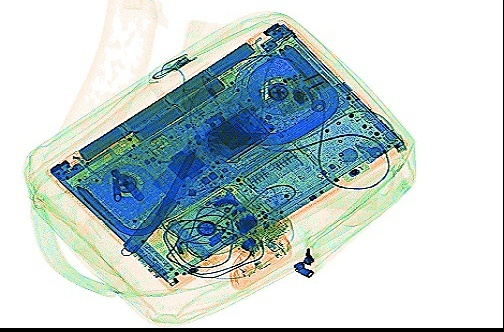knife: (119, 193, 178, 255)
